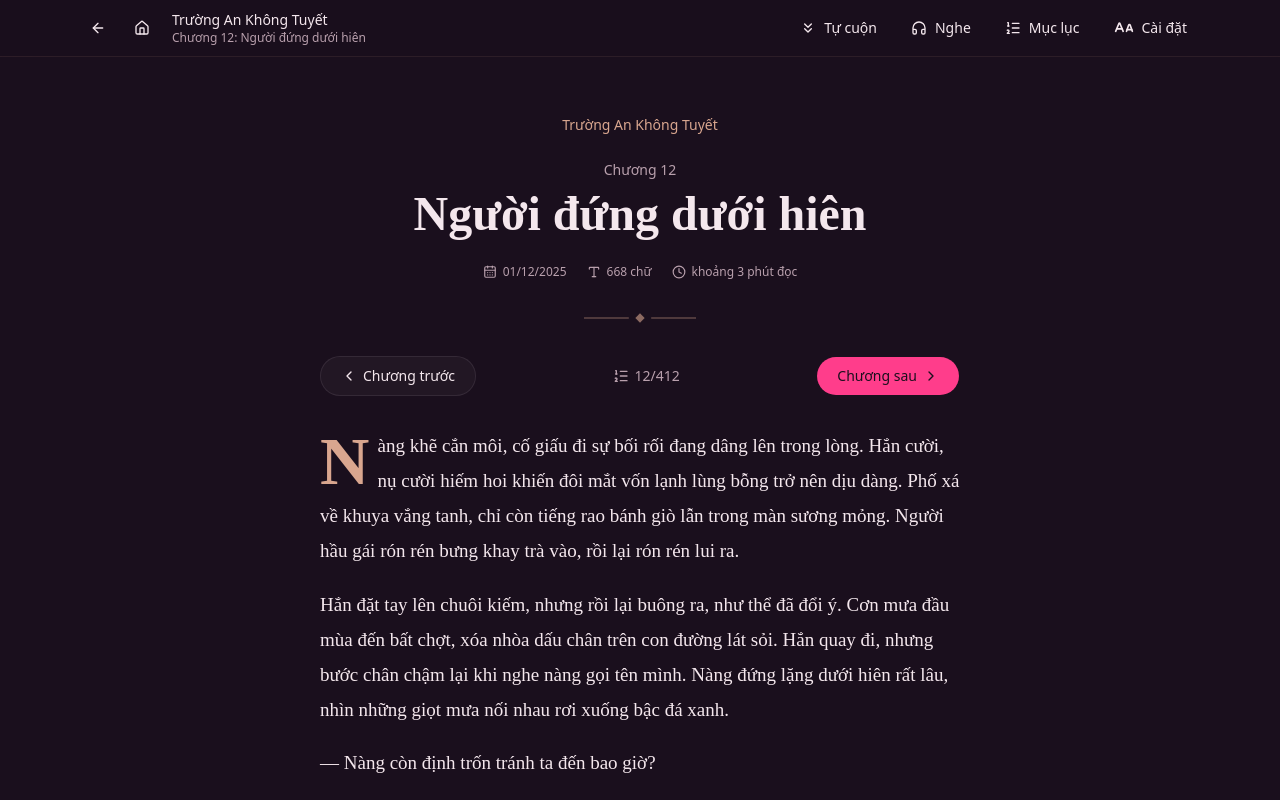
Test: tự chuyển chương bằng phím → khi đang tự cuộn thì tạm dừng
The image size is (1280, 800).
Expected: the heading "Người đứng dưới hiên" is shown, 414,187 -> 866,240
Click the button with aria-label "Tự động cuộn" at [839, 28], box 787,8 -> 890,48
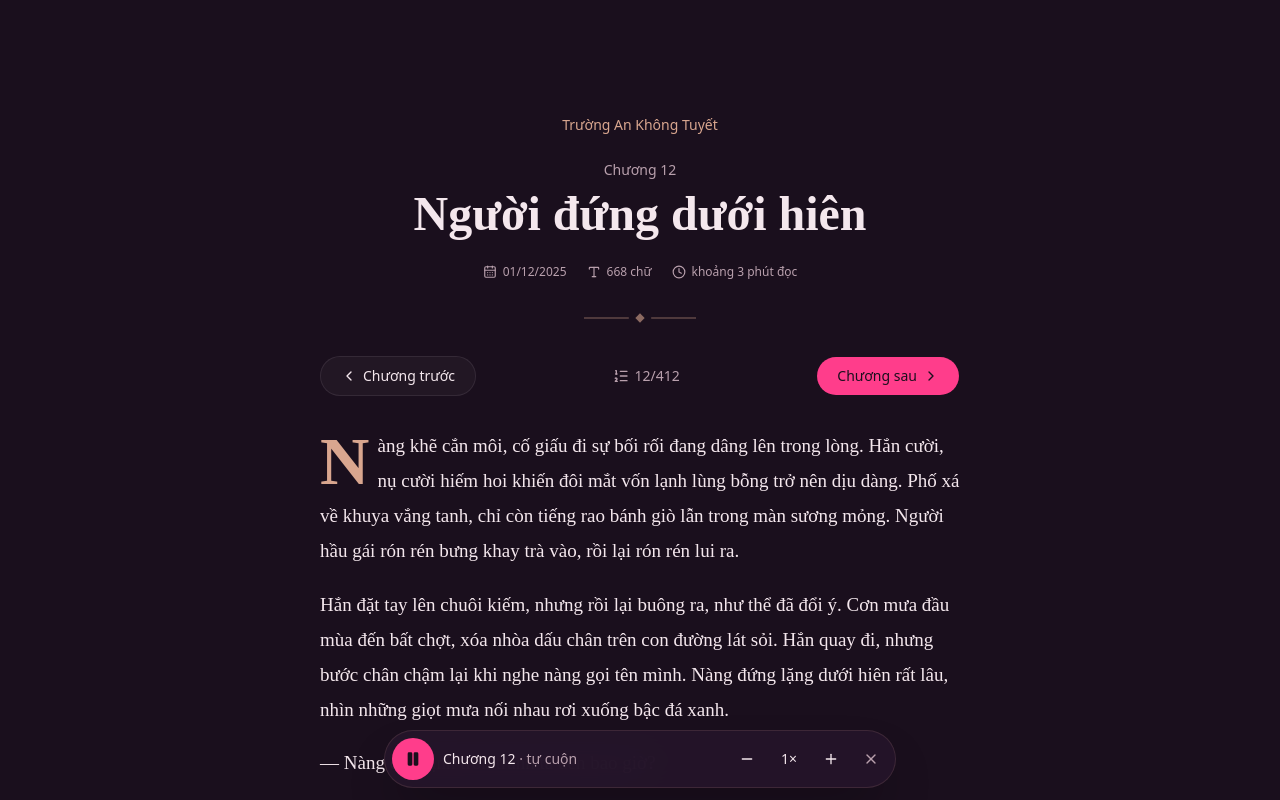
Press Arrowright
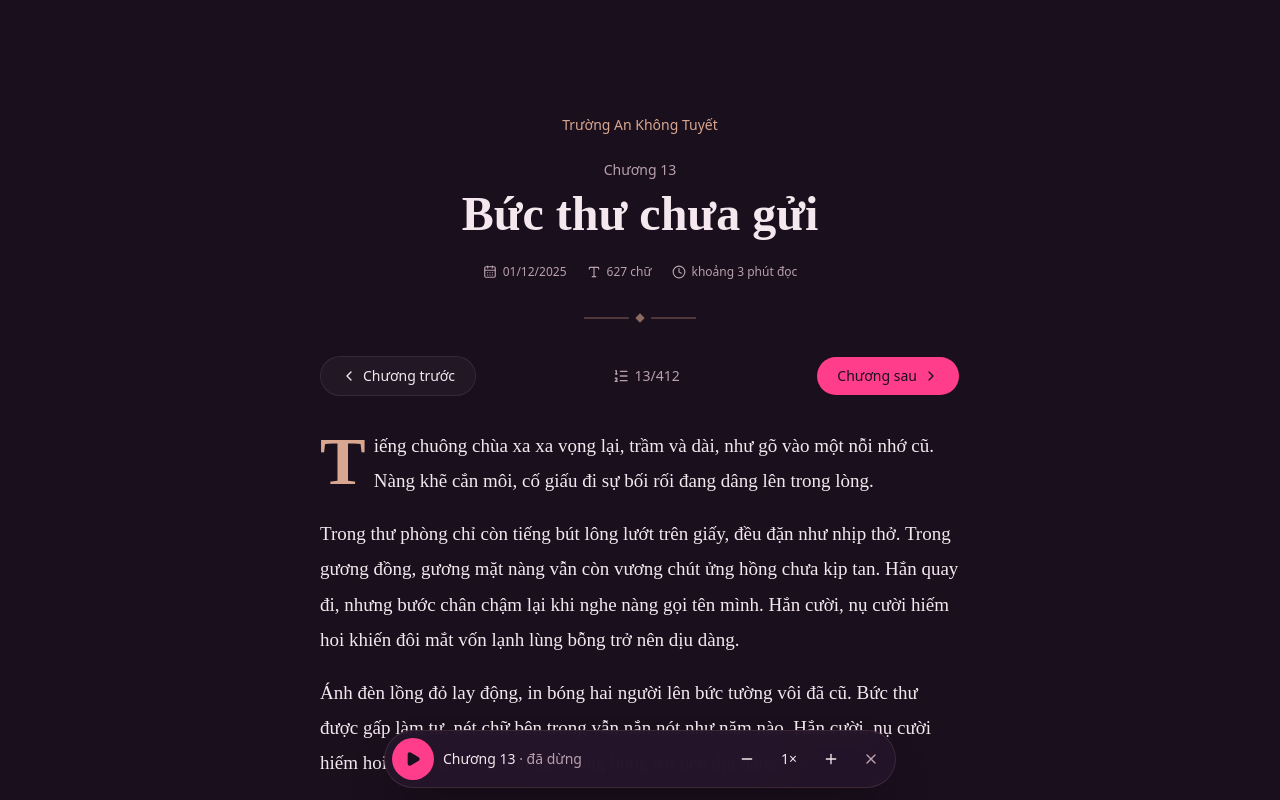
Expected: the button named "Cuộn tiếp" is shown, 391,737 -> 435,781
